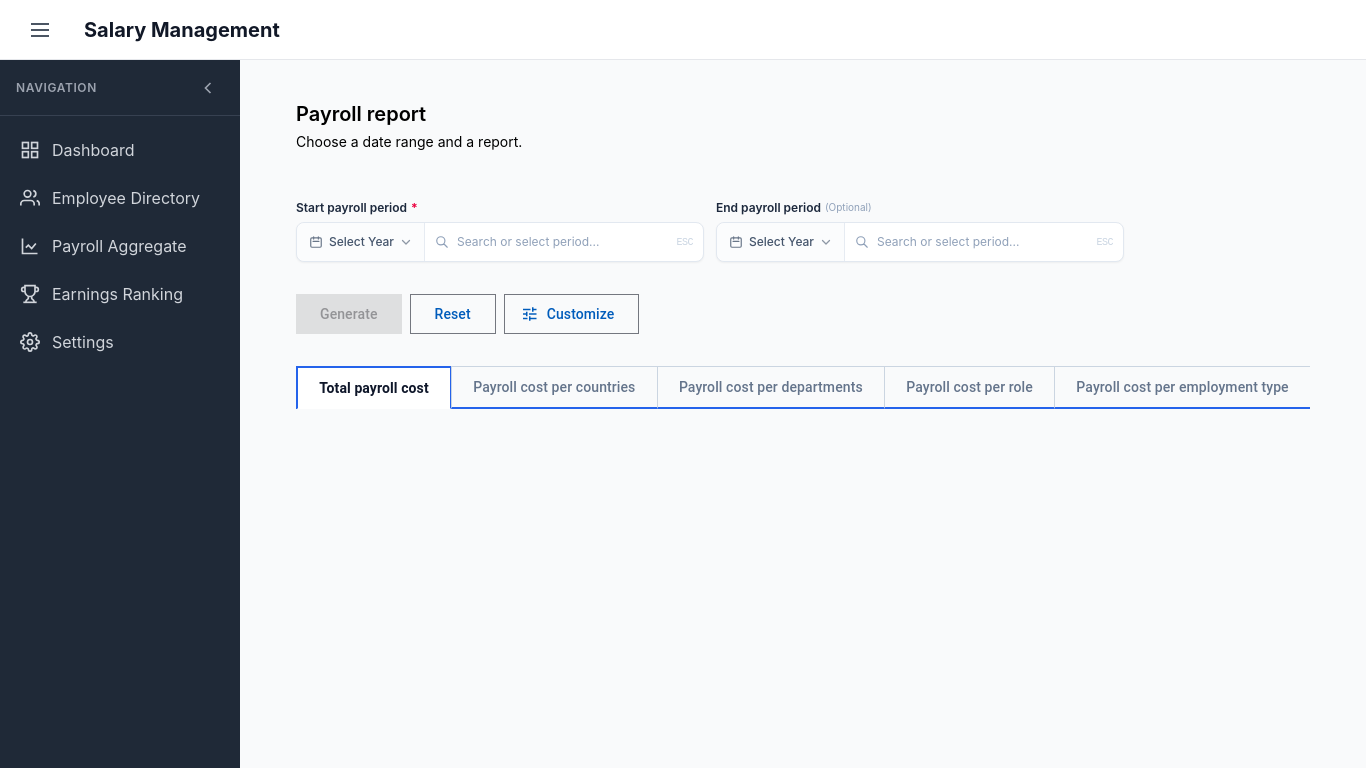
Aggregate Report Page › should show the warning banner for MISSING_PAYROLL_SUMMARY (HTTP 200)
This screenshot has width=1366, height=768.
Step 1. Click the button "Select Year" below "Start payroll period" → [361, 242], box [297, 223, 425, 261]
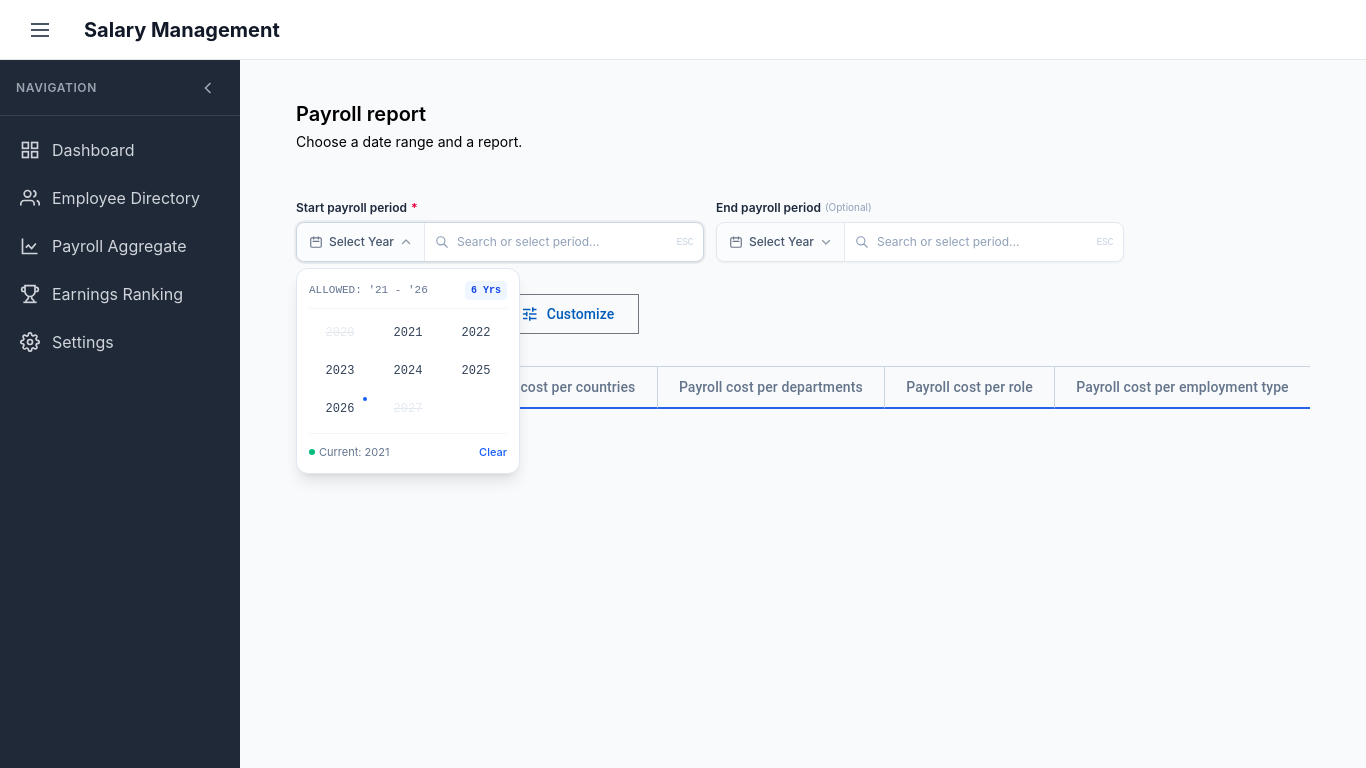
Expected: the button with test id "period-picker-year-2026" is shown
Step 2. Click the button with test id "period-picker-year-2026" → [340, 409], box [309, 393, 371, 425]
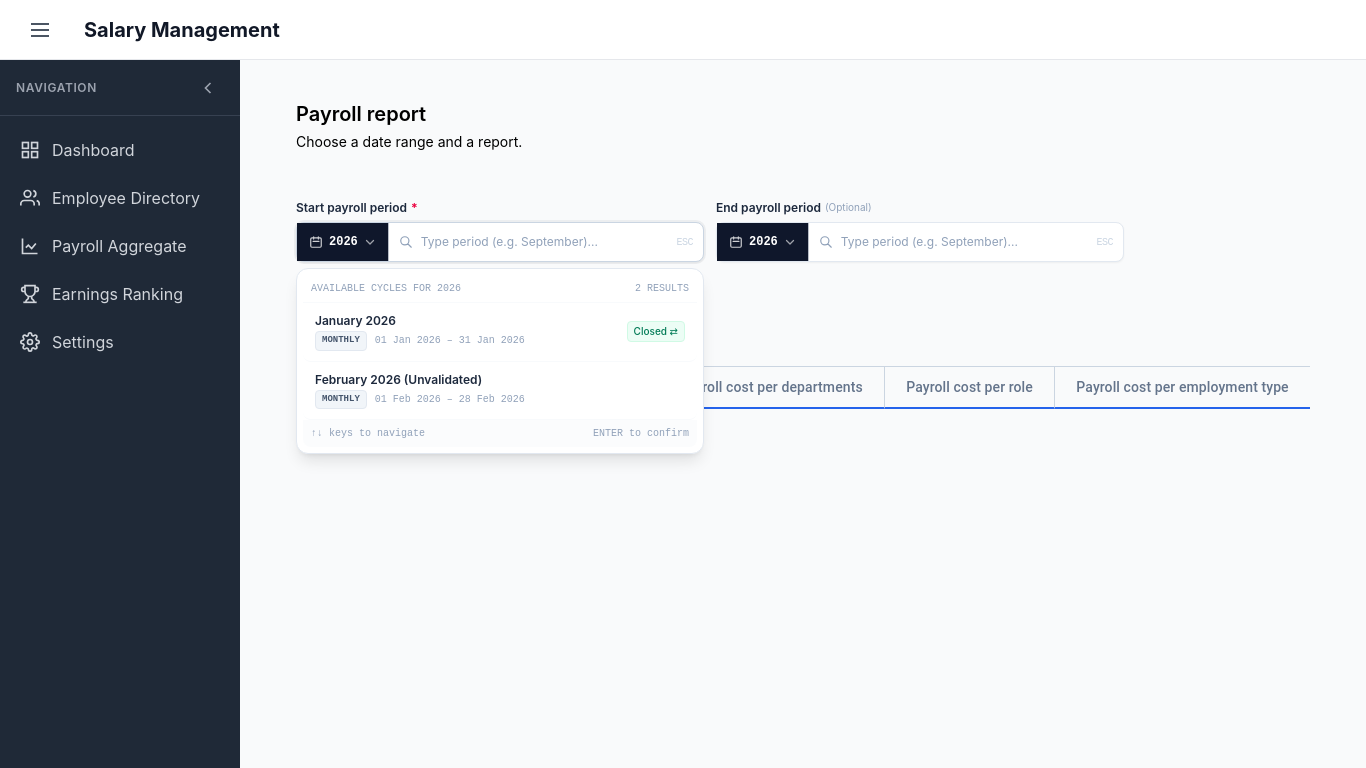
Step 3. Click the button "January 2026 MONTHLY 01 Jan 2026 – 31 Jan 2026 Closed ⇄" → [500, 333], box [303, 303, 697, 362]
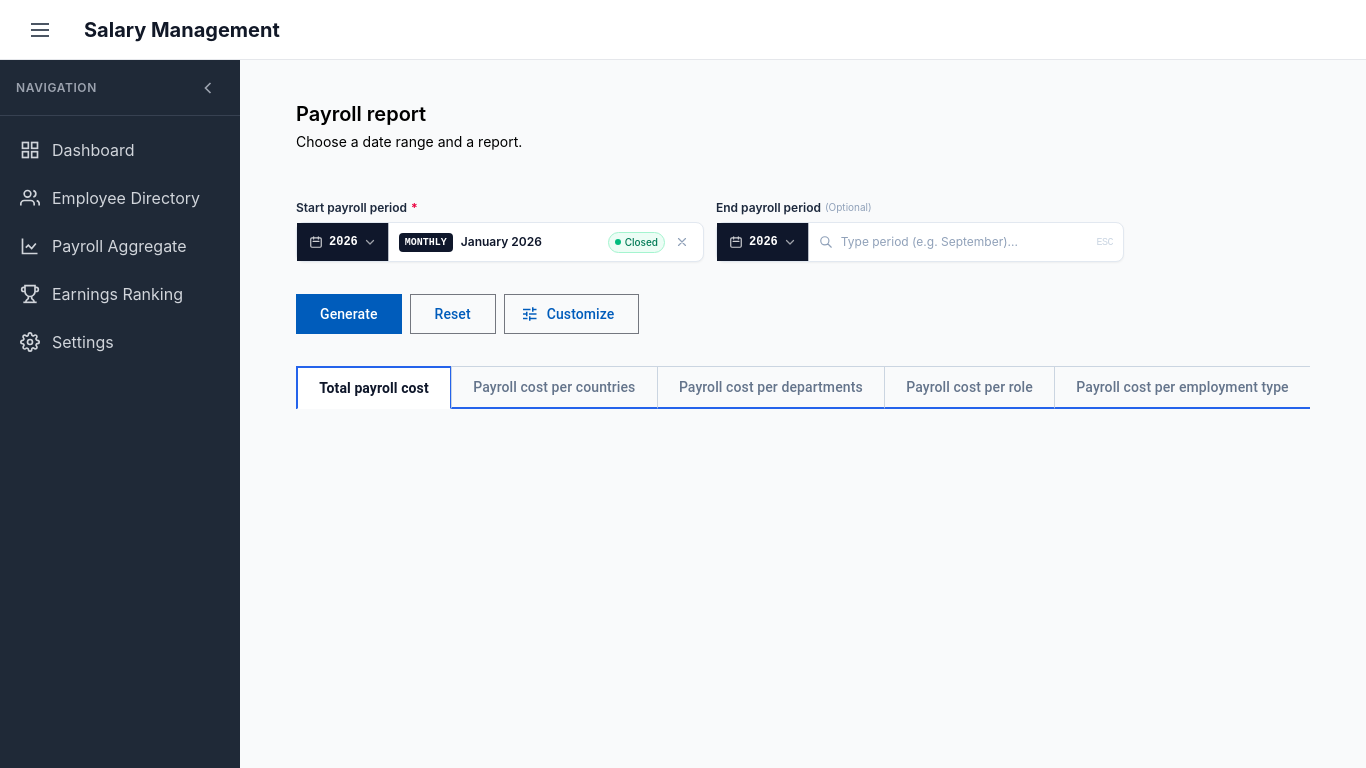
Step 4. Click the button with test id "btn-generate" → [349, 314], box [296, 294, 402, 334]
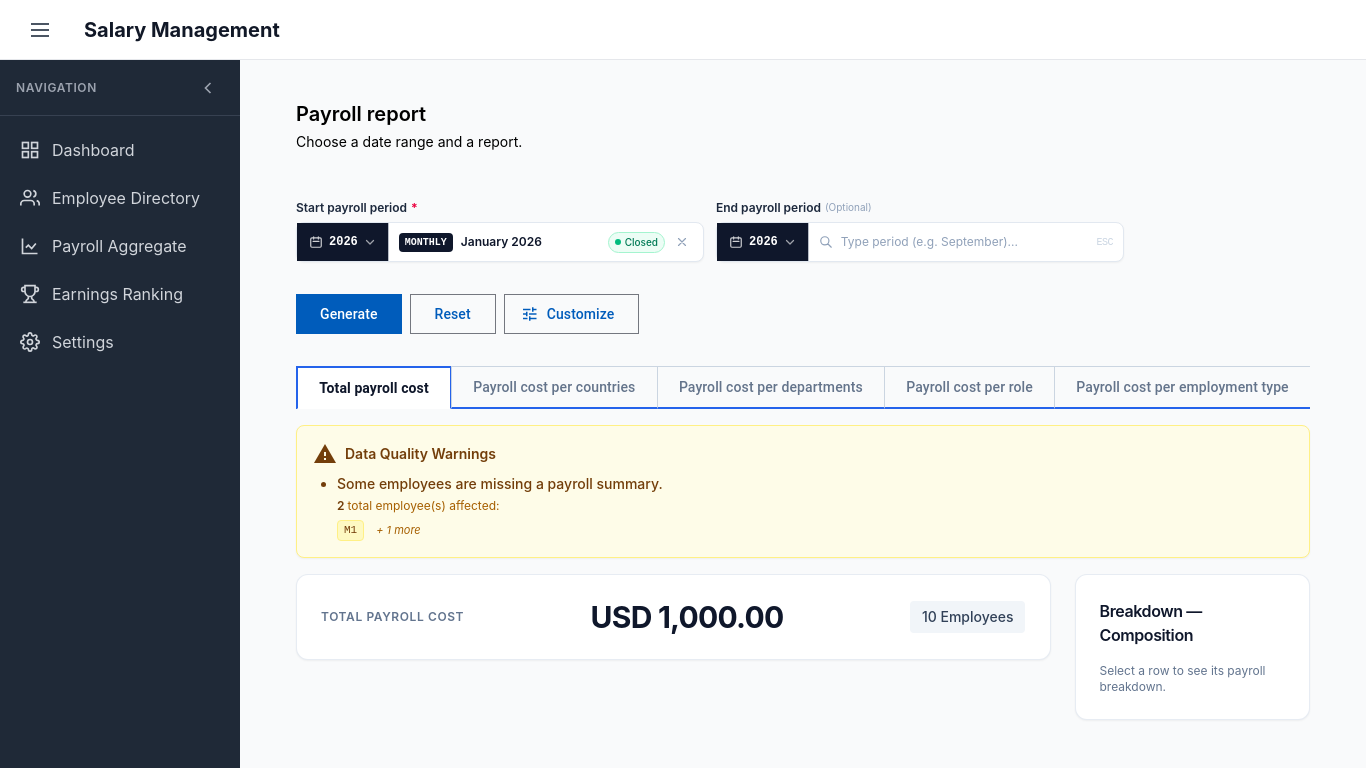
Expected: the element with test id "warning-banner" is shown, [296, 425, 1310, 558]
Expected: the heading with test id "warning-banner" reads "Data Quality Warnings", [345, 445, 496, 462]
Expected: the text with test id "warning-banner" reads "Some employees are missing a payroll summary.", [337, 475, 663, 492]
